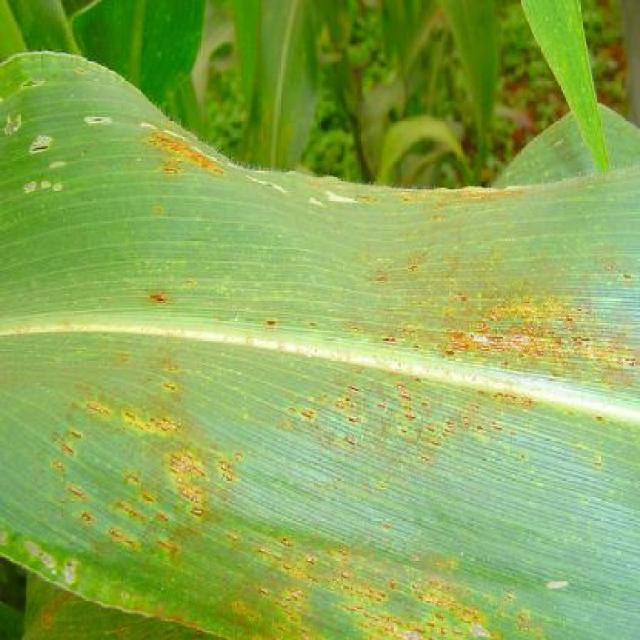Corn_Rust: (16, 115, 624, 640)
